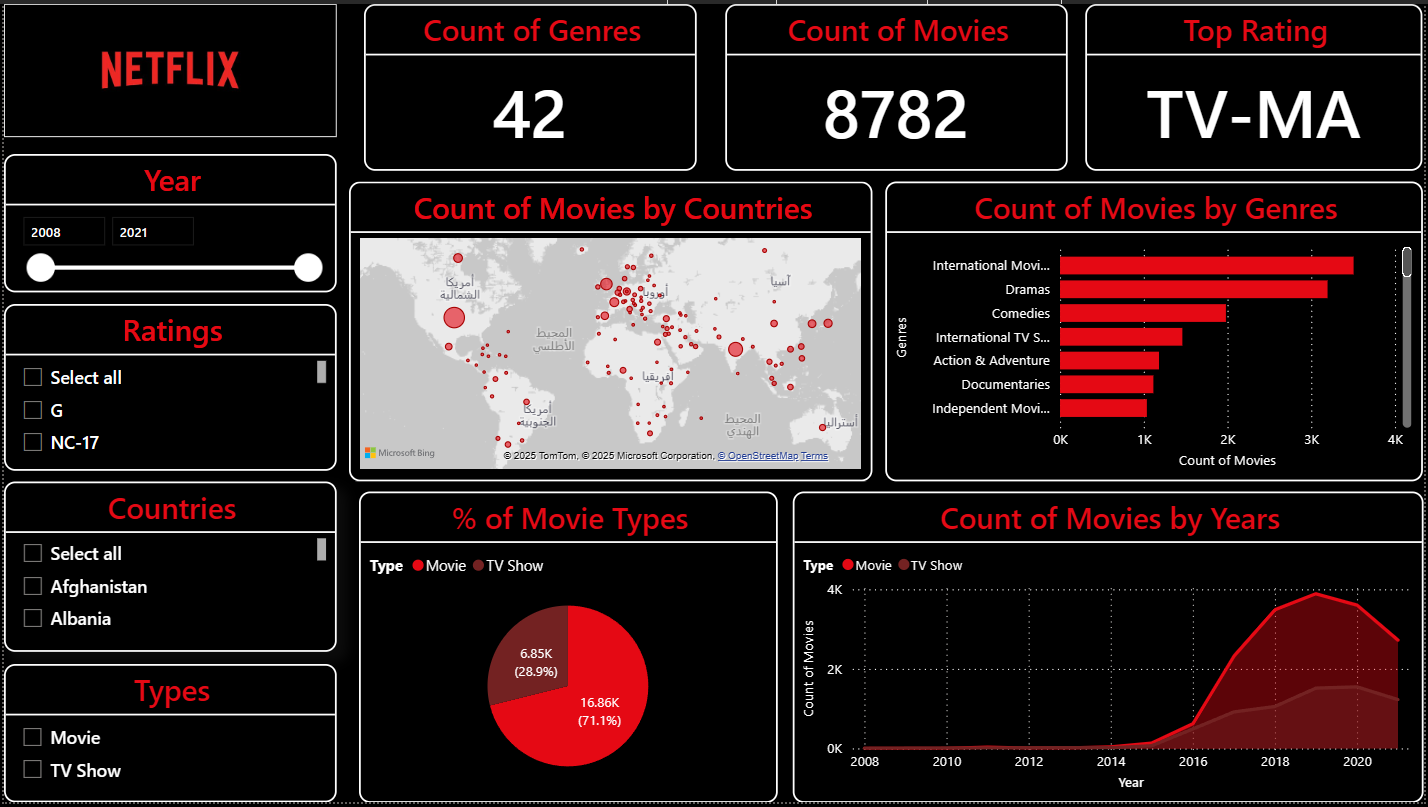

Layout of this report page (visuals, bound fields, positions):
{"tool":"powerbi","page":{"name":"Page 1","canvas":[1280,720],"ordinal":0},"visuals":[{"type":"slicer","title":"Countries","fields":{"Values":["netflix_cleaned.country"]},"box":[0,430,299.8,153.3],"z":0},{"type":"slicer","title":"Types","fields":{"Values":["netflix_cleaned.type"]},"box":[0,595.1,299.8,125.1],"z":1000},{"type":"slicer","title":"Ratings","fields":{"Values":["netflix_cleaned.rating"]},"box":[0,270,300,150],"z":2000},{"type":"slicer","title":"Year","fields":{"Values":["netflix_cleaned.year"]},"box":[0,135,300,125],"z":3000},{"type":"areaChart","title":"Count of Movies by Years","fields":{"Category":["netflix_cleaned.year"],"Y":["CountNonNull(netflix_cleaned.show_id)"],"Series":["netflix_cleaned.type"]},"box":[711.2,439.6,569.2,280.7],"z":4000},{"type":"pieChart","title":"% of Movie Types","fields":{"Category":["netflix_cleaned.type"],"Y":["CountNonNull(netflix_cleaned.show_id)"]},"box":[320.1,439.6,377.6,280.7],"z":5000},{"type":"map","title":"Count of Movies by Countries","fields":{"Category":["netflix_cleaned.country"],"Size":["CountNonNull(netflix_cleaned.country)"]},"box":[311.1,160,472.3,270],"z":6000},{"type":"image","box":[0,0,300,120],"z":7000},{"type":"card","title":"Count of Movies","fields":{"Values":["Count(netflix_cleaned.title)"]},"box":[650,0,308.8,150],"z":8000},{"type":"clusteredBarChart","title":"Count of Movies by Genres","fields":{"Y":["CountNonNull(netflix_cleaned.listed_in)"],"Category":["netflix_cleaned.listed_in"]},"box":[795,160,485,270],"z":9000},{"type":"card","title":"Count of Genres","fields":{"Values":["Count(netflix_cleaned.listed_in)"]},"box":[325,0,300,150],"z":10000},{"type":"card","title":"Top Rating","fields":{"Values":["netflix_cleaned.Top Rating"]},"box":[975,0,304.3,150],"z":11000}]}

Visuals, with their boxes in screenshot pixels (x1, y1, x2, y2), scaled from the page's 1280x720 canvas onto the 1428x807 screenshot:
"Countries" slicer: <region>0, 482, 334, 654</region>
"Types" slicer: <region>0, 667, 334, 806</region>
"Ratings" slicer: <region>0, 303, 335, 471</region>
"Year" slicer: <region>0, 151, 335, 291</region>
"Count of Movies by Years" areaChart: <region>793, 493, 1427, 806</region>
"% of Movie Types" pieChart: <region>357, 493, 778, 806</region>
"Count of Movies by Countries" map: <region>347, 179, 874, 482</region>
image: <region>0, 0, 335, 134</region>
"Count of Movies" card: <region>725, 0, 1070, 168</region>
"Count of Movies by Genres" clusteredBarChart: <region>887, 179, 1427, 482</region>
"Count of Genres" card: <region>363, 0, 697, 168</region>
"Top Rating" card: <region>1088, 0, 1427, 168</region>
